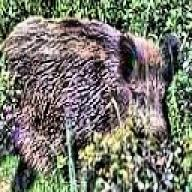boar: (0, 13, 183, 192)
